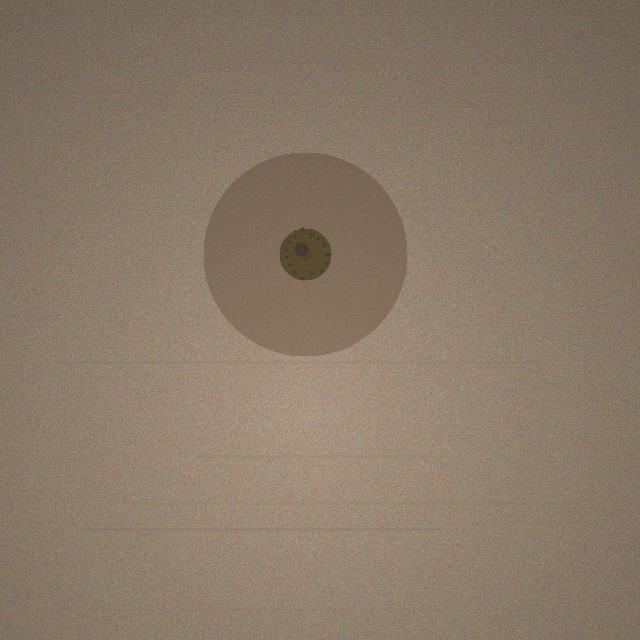cold_weld: (203, 152, 407, 356)
